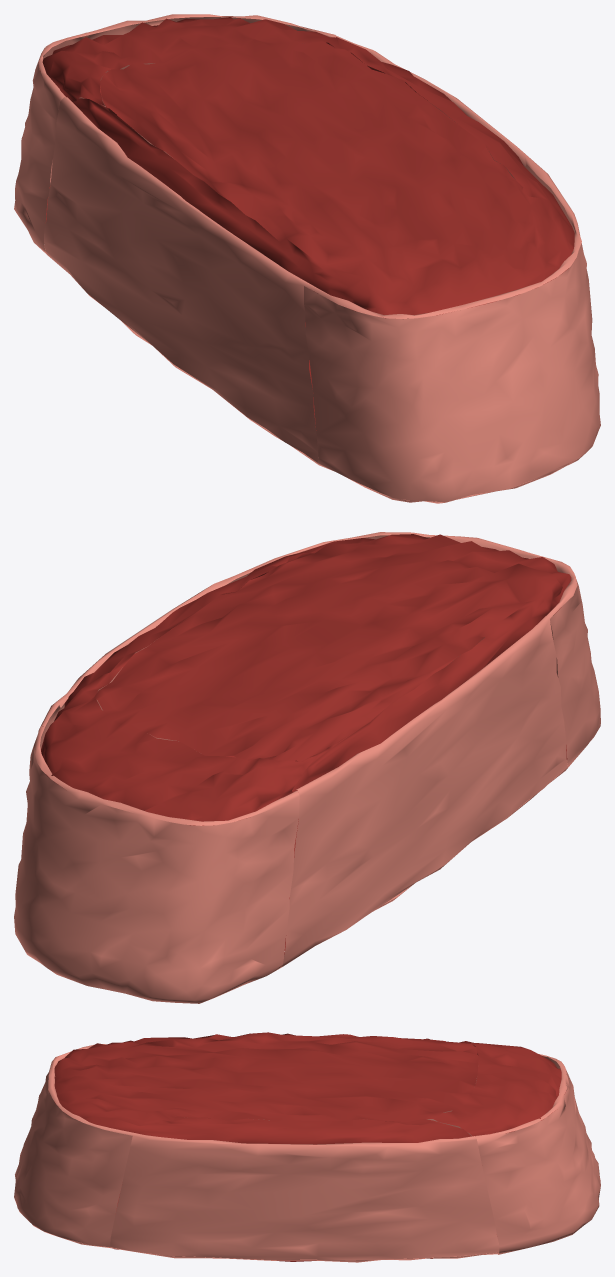
File: Food (17).fbx
The picture shows the model from 3 angles, top to bottom: view 1: azimuth 30°, elevation 25°; view 2: azimuth 150°, elevation 25°; view 3: azimuth 270°, elevation 25°; orthographic projection. The views are drawn at different scales.
Visible parts, largest first — view 1: Cube.011; view 2: Cube.011; view 3: Cube.011.
Part boxes in pixels (box(x1,y1,x2,y2)): Cube.011: box(14, 14, 600, 503); Cube.011: box(14, 532, 600, 1003); Cube.011: box(14, 1032, 600, 1262).
Bounding box in the file's own units: 5.24 × 3.57 × 12.22.
